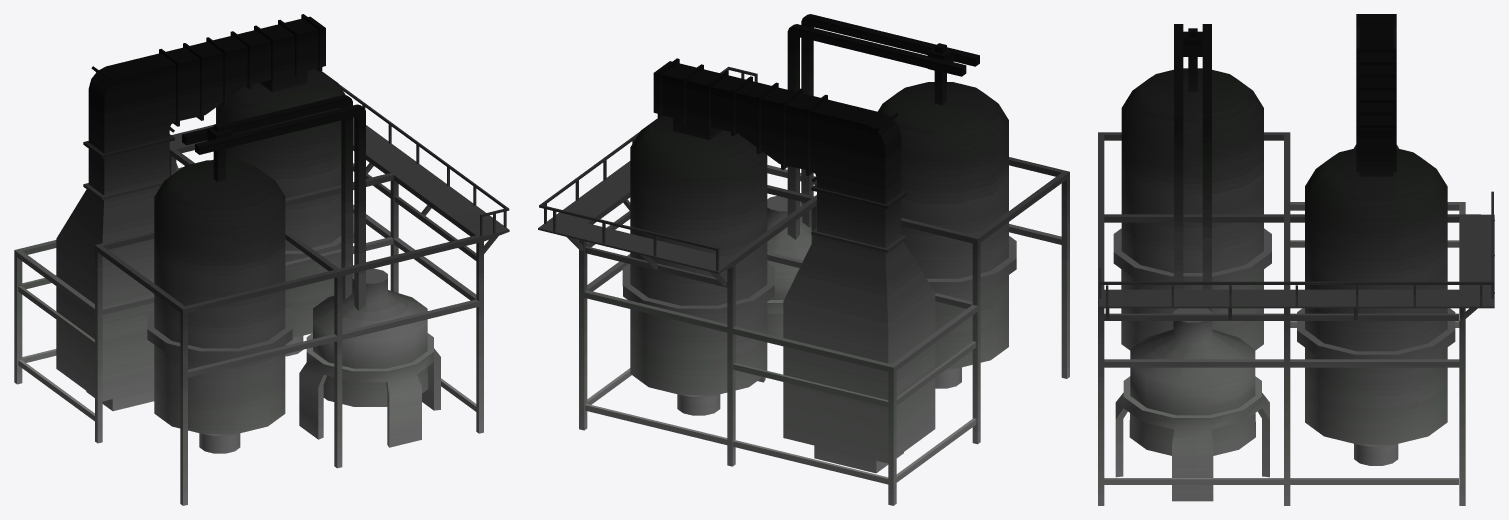
3 renders of one model, left to right at view 1: azimuth 30°, elevation 25°; view 2: azimuth 150°, elevation 25°; view 3: azimuth 270°, elevation 25°, orthographic. The views are drawn at different scales.
Visible parts, largest first — view 1: body0_model0_lod0_mesh0; view 2: body0_model0_lod0_mesh0; view 3: body0_model0_lod0_mesh0.
Part boxes in pixels (<box>): body0_model0_lod0_mesh0: <box>14,14,509,505</box>; body0_model0_lod0_mesh0: <box>538,14,1069,505</box>; body0_model0_lod0_mesh0: <box>1098,14,1494,505</box>.
Bounding box in the file's own units: 520 × 500 × 502.
1 material, 1 textured.
